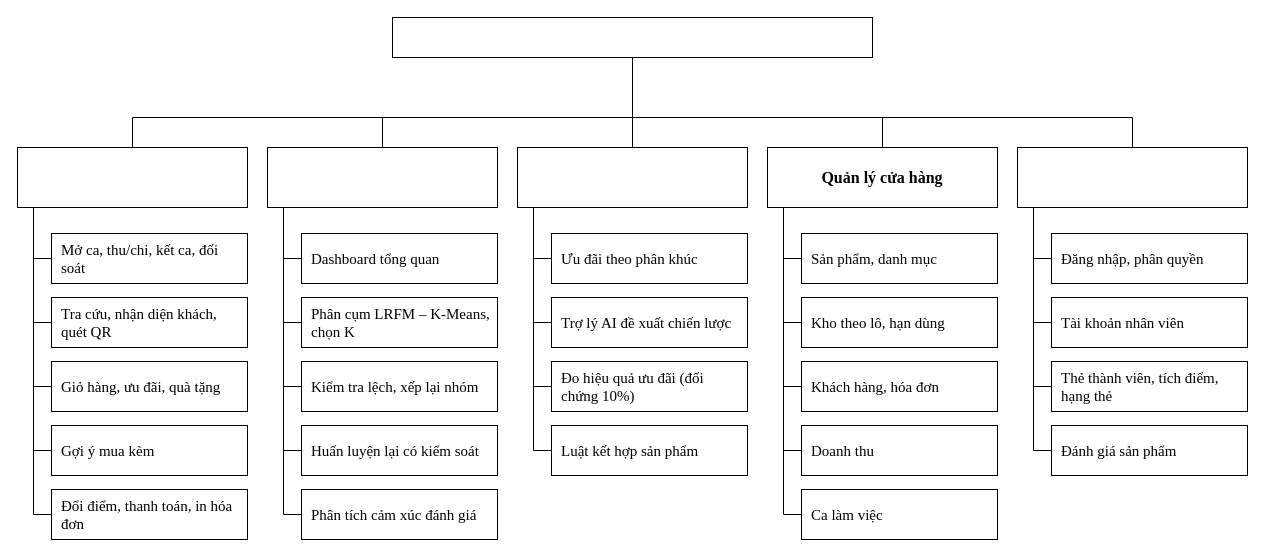
Some shapes in this 1265 by 557 pixel diagram are drawn without their labels. Each missing label, with the box of its shape:
Bán hàng tại quầy (POS): (16, 146, 248, 208)
Chiến lược kinh doanh: (516, 146, 748, 208)
Hệ thống & thành viên: (1016, 146, 1248, 208)
HỆ THỐNG PHÂN TÍCH VÀ PHÂN CỤM KHÁCH HÀNG: (392, 16, 872, 58)
Phân tích khách hàng & AI: (266, 146, 498, 208)
